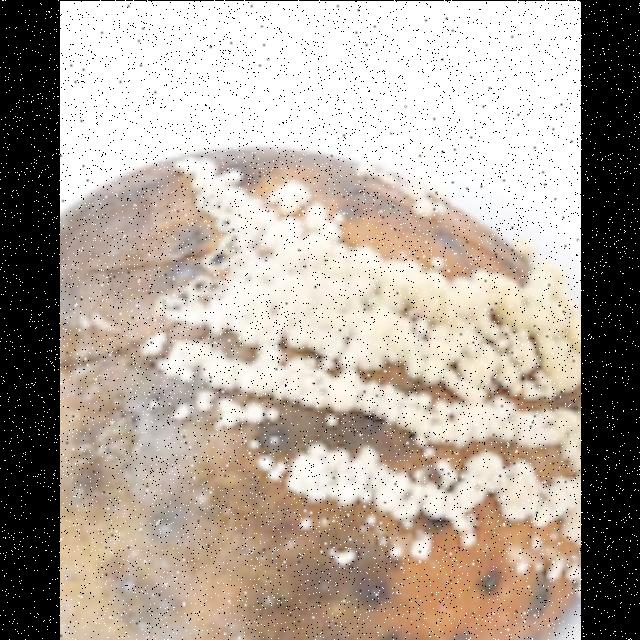Apel Tidak Segar: (59, 140, 580, 640)
